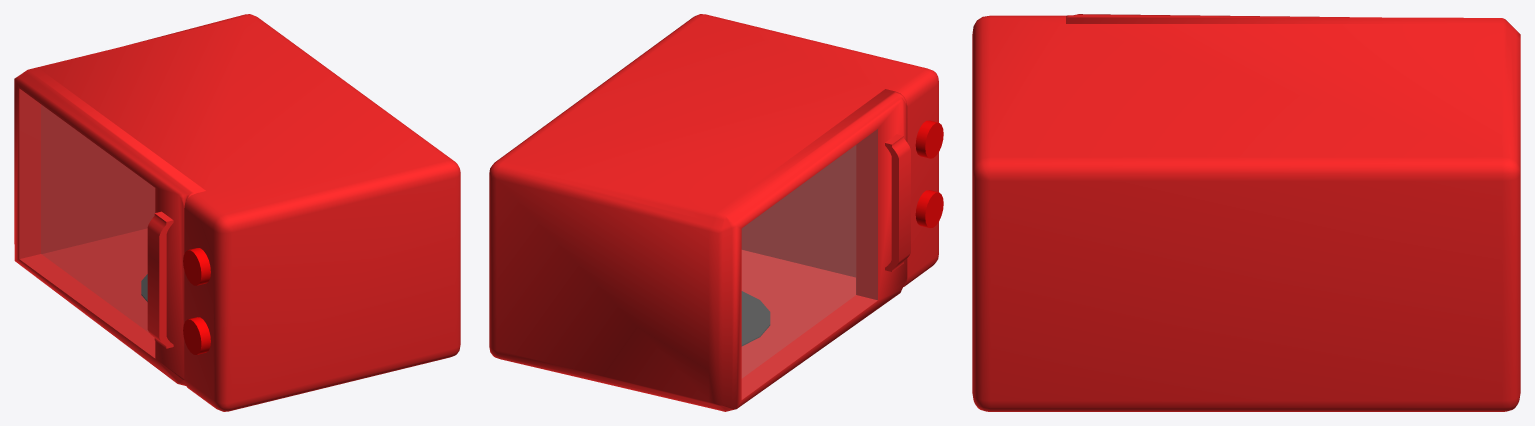
File: microwave.FBX
3 renders of one model, left to right at view 1: azimuth 30°, elevation 25°; view 2: azimuth 150°, elevation 25°; view 3: azimuth 270°, elevation 25°, orthographic. The views are drawn at different scales.
Visible parts, largest first — view 1: Box001, Box004, Box003, Cylinder001, Cylinder002; view 2: Box001, Box003, Box004, Cylinder003, Cylinder002, Cylinder001; view 3: Box001, Box003.
Part boxes in pixels (box(x1,y1,x2,y2)): Box001: box(38, 14, 460, 411); Box004: box(20, 89, 154, 357); Box003: box(14, 67, 205, 385); Cylinder001: box(183, 248, 210, 285); Cylinder002: box(183, 317, 210, 354); Box001: box(489, 14, 938, 409); Box003: box(708, 89, 910, 411); Box004: box(742, 129, 877, 398); Cylinder003: box(741, 291, 770, 345); Cylinder002: box(915, 190, 943, 227); Cylinder001: box(915, 120, 943, 158); Box001: box(972, 15, 1520, 411); Box003: box(1066, 14, 1520, 40).
Size of the model in its own units: 21.16 by 15.26 by 30.
